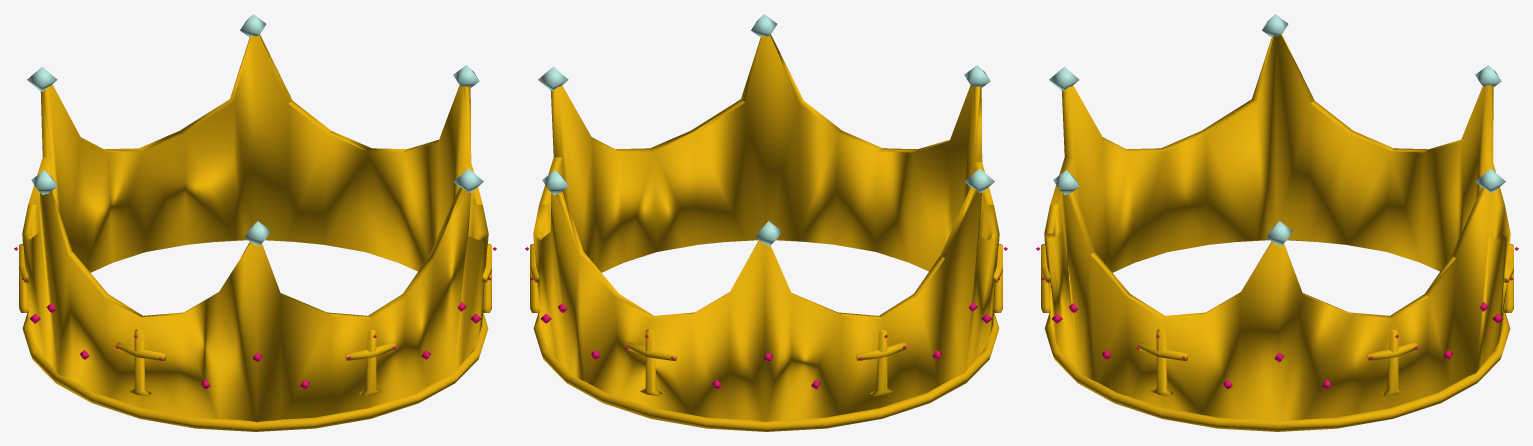
The model's file is creator-crown.glb.
3 renders of one model, left to right at view 1: azimuth 30°, elevation 25°; view 2: azimuth 150°, elevation 25°; view 3: azimuth 270°, elevation 25°, orthographic.
Parts seen in each view (by area): view 1: crown.obj; view 2: crown.obj; view 3: crown.obj.
Part boxes in pixels (x1,y1,x2,y2): crown.obj: [14, 14, 496, 431]; crown.obj: [525, 14, 1007, 431]; crown.obj: [1036, 14, 1518, 431].
Bounding box in the file's own units: 0.0886 × 0.0411 × 0.0828.
